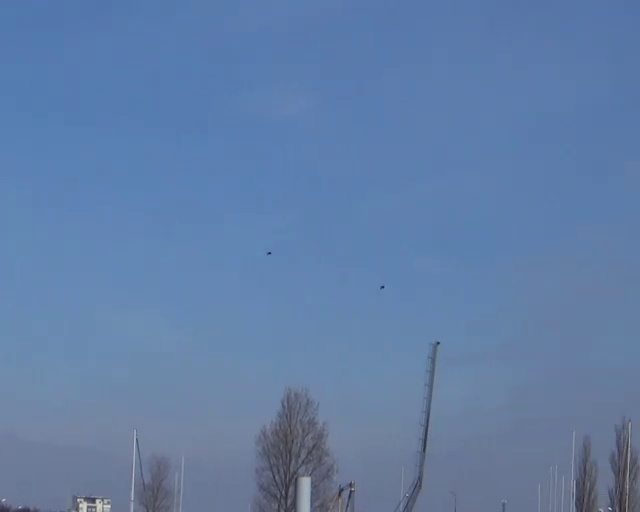BIRD: (265, 250, 272, 255)
